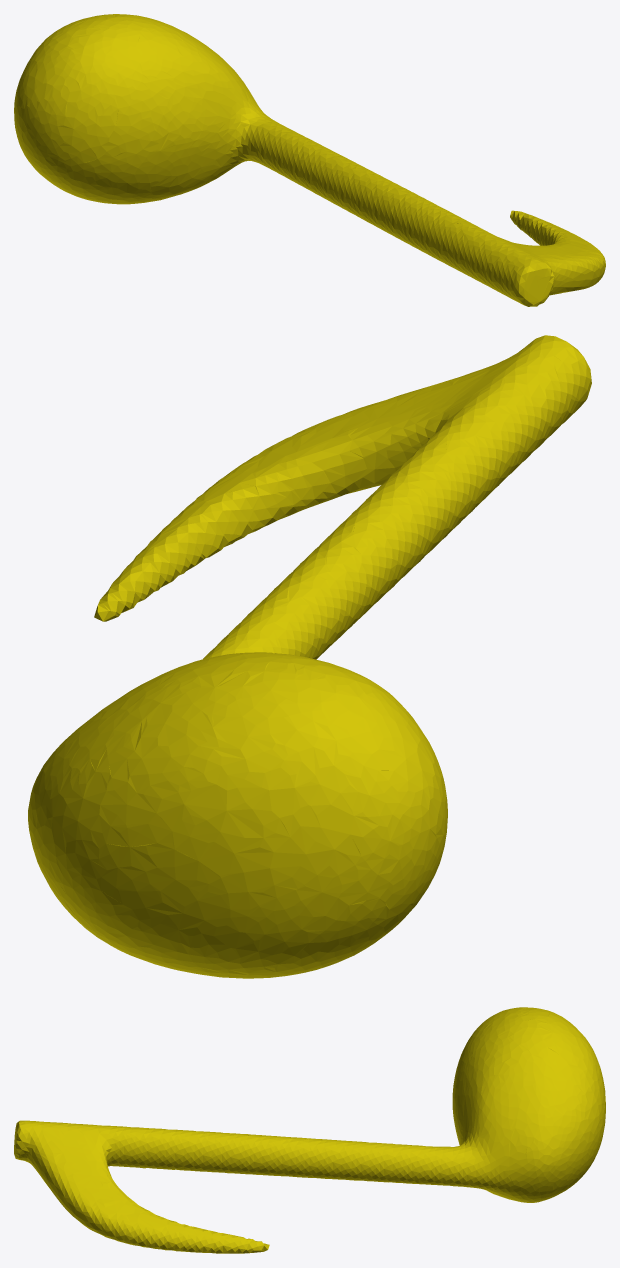
The model's file is yellownote.obj.
3 renders of one model, top to bottom at view 1: azimuth 30°, elevation 25°; view 2: azimuth 150°, elevation 25°; view 3: azimuth 270°, elevation 25°, orthographic. The views are drawn at different scales.
Visible parts, largest first — view 1: Layer_1; view 2: Layer_1; view 3: Layer_1.
Part boxes in pixels (left/top/right/bottom): Layer_1: left=14, top=14, right=605, bottom=306; Layer_1: left=28, top=335, right=591, bottom=978; Layer_1: left=14, top=1007, right=605, bottom=1253.
Size of the model in its own units: 0.1155 by 0.0555 by 0.1944.
